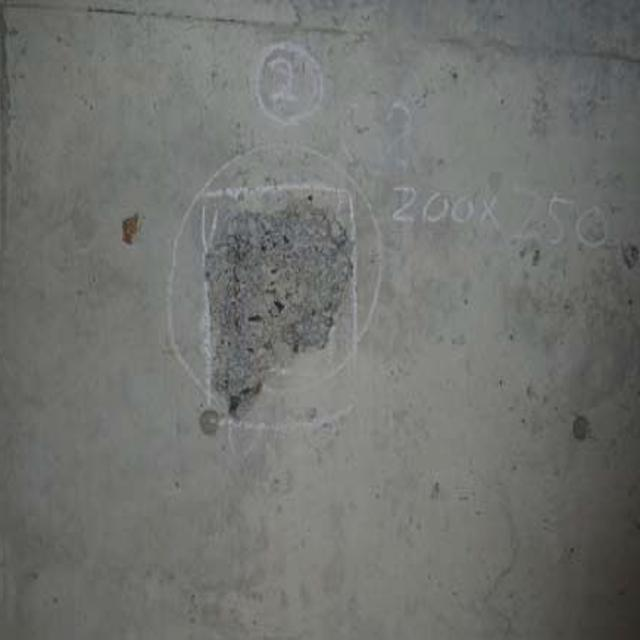spalling: (200, 172, 367, 414)
